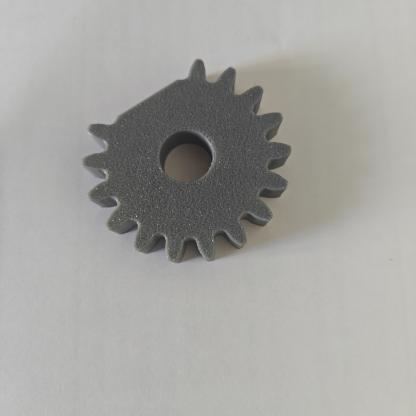defect: (84, 55, 232, 160)
gear: (74, 49, 307, 279)
